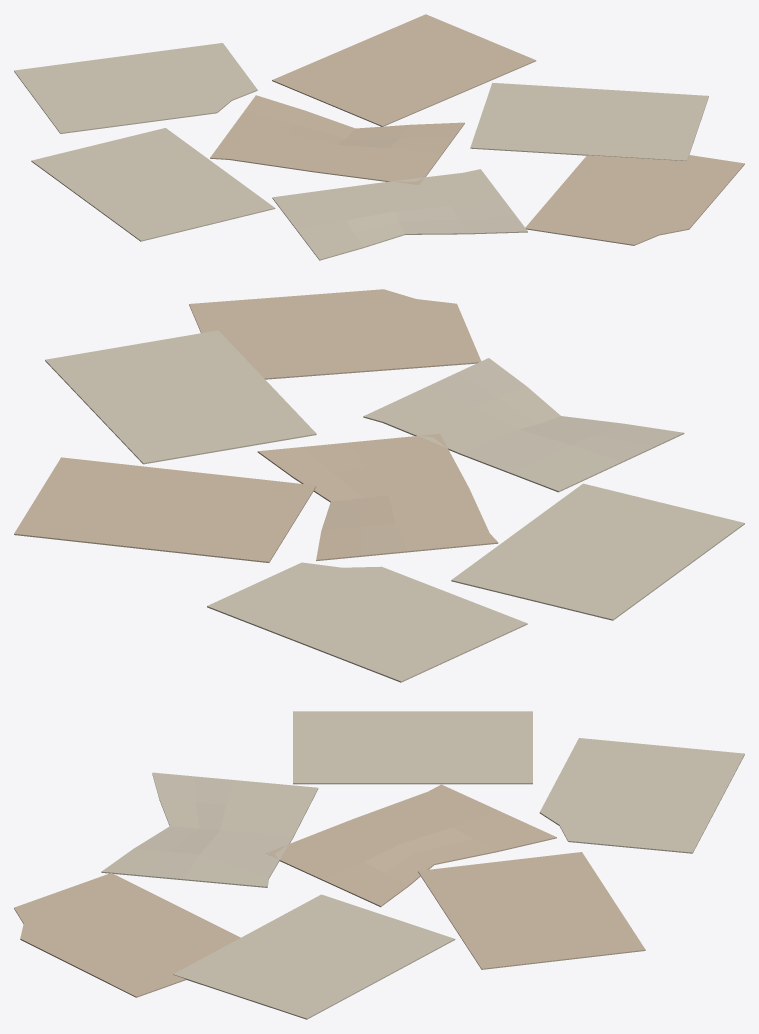
Rendered from Paper2.fbx.
3 views of the same model, one above another, from view 1: azimuth 30°, elevation 25°; view 2: azimuth 150°, elevation 25°; view 3: azimuth 270°, elevation 25° (orthographic). The views are drawn at different scales.
Parts seen in each view (by area): view 1: Cube; view 2: Cube; view 3: Cube.
Part boxes in pixels (x1,y1,x2,y2): Cube: (14, 14, 744, 260); Cube: (14, 289, 744, 682); Cube: (14, 711, 744, 1019).
Bounding box in the file's own units: 635 × 4.36 × 638.
